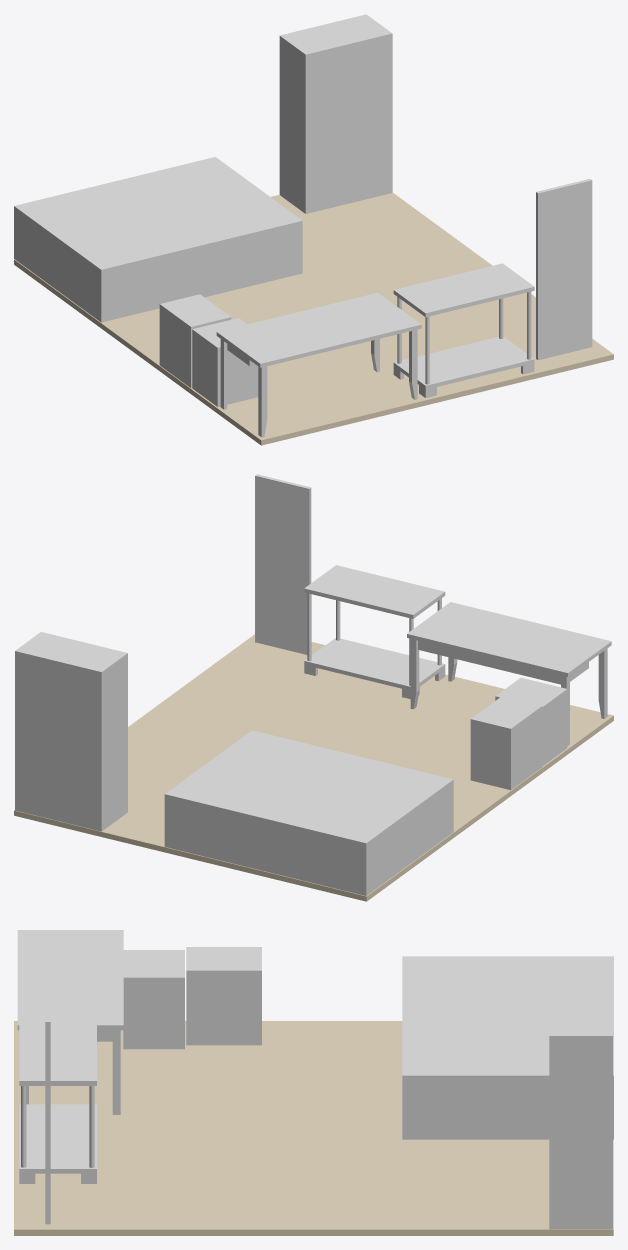
Rendered from roomfloortest.gltf.
3 views of the same model, one above another, from view 1: azimuth 30°, elevation 25°; view 2: azimuth 150°, elevation 25°; view 3: azimuth 270°, elevation 25° (orthographic). The views are drawn at different scales.
Visible parts, largest first — view 1: Cube, Cube.005, Cube.006, desk, Mirror Frame, table, Cube.003, Cube.004; view 2: Cube, Cube.005, Cube.006, desk, table, Mirror, Cube.004, Cube.003, Mirror Frame; view 3: Cube, Cube.005, Cube.006, table, desk, Cube.004, Cube.003, Mirror Frame.
Boxes of the visible parts, x1=… form: Cube: x1=14, y1=193, x2=613, y2=445; Cube.005: x1=14, y1=157, x2=302, y2=322; Cube.006: x1=279, y1=14, x2=392, y2=213; desk: x1=216, y1=292, x2=421, y2=437; Mirror Frame: x1=536, y1=178, x2=592, y2=360; table: x1=393, y1=263, x2=534, y2=397; Cube.003: x1=192, y1=318, x2=258, y2=406; Cube.004: x1=159, y1=294, x2=231, y2=388; Cube: x1=14, y1=634, x2=613, y2=901; Cube.005: x1=164, y1=730, x2=453, y2=895; Cube.006: x1=15, y1=632, x2=127, y2=831; desk: x1=407, y1=602, x2=611, y2=745; table: x1=304, y1=565, x2=445, y2=698; Mirror: x1=256, y1=476, x2=308, y2=654; Cube.004: x1=470, y1=696, x2=542, y2=789; Cube.003: x1=495, y1=677, x2=567, y2=766; Mirror Frame: x1=255, y1=474, x2=311, y2=642; Cube: x1=14, y1=1021, x2=613, y2=1235; Cube.005: x1=402, y1=956, x2=613, y2=1139; Cube.006: x1=549, y1=984, x2=612, y2=1229; table: x1=19, y1=1016, x2=96, y2=1183; desk: x1=17, y1=930, x2=123, y2=1114; Cube.004: x1=186, y1=947, x2=261, y2=1045; Cube.003: x1=123, y1=950, x2=184, y2=1049; Mirror Frame: x1=45, y1=990, x2=50, y2=1224.
Size of the model in its own units: 3.56 by 1.66 by 4.32.
